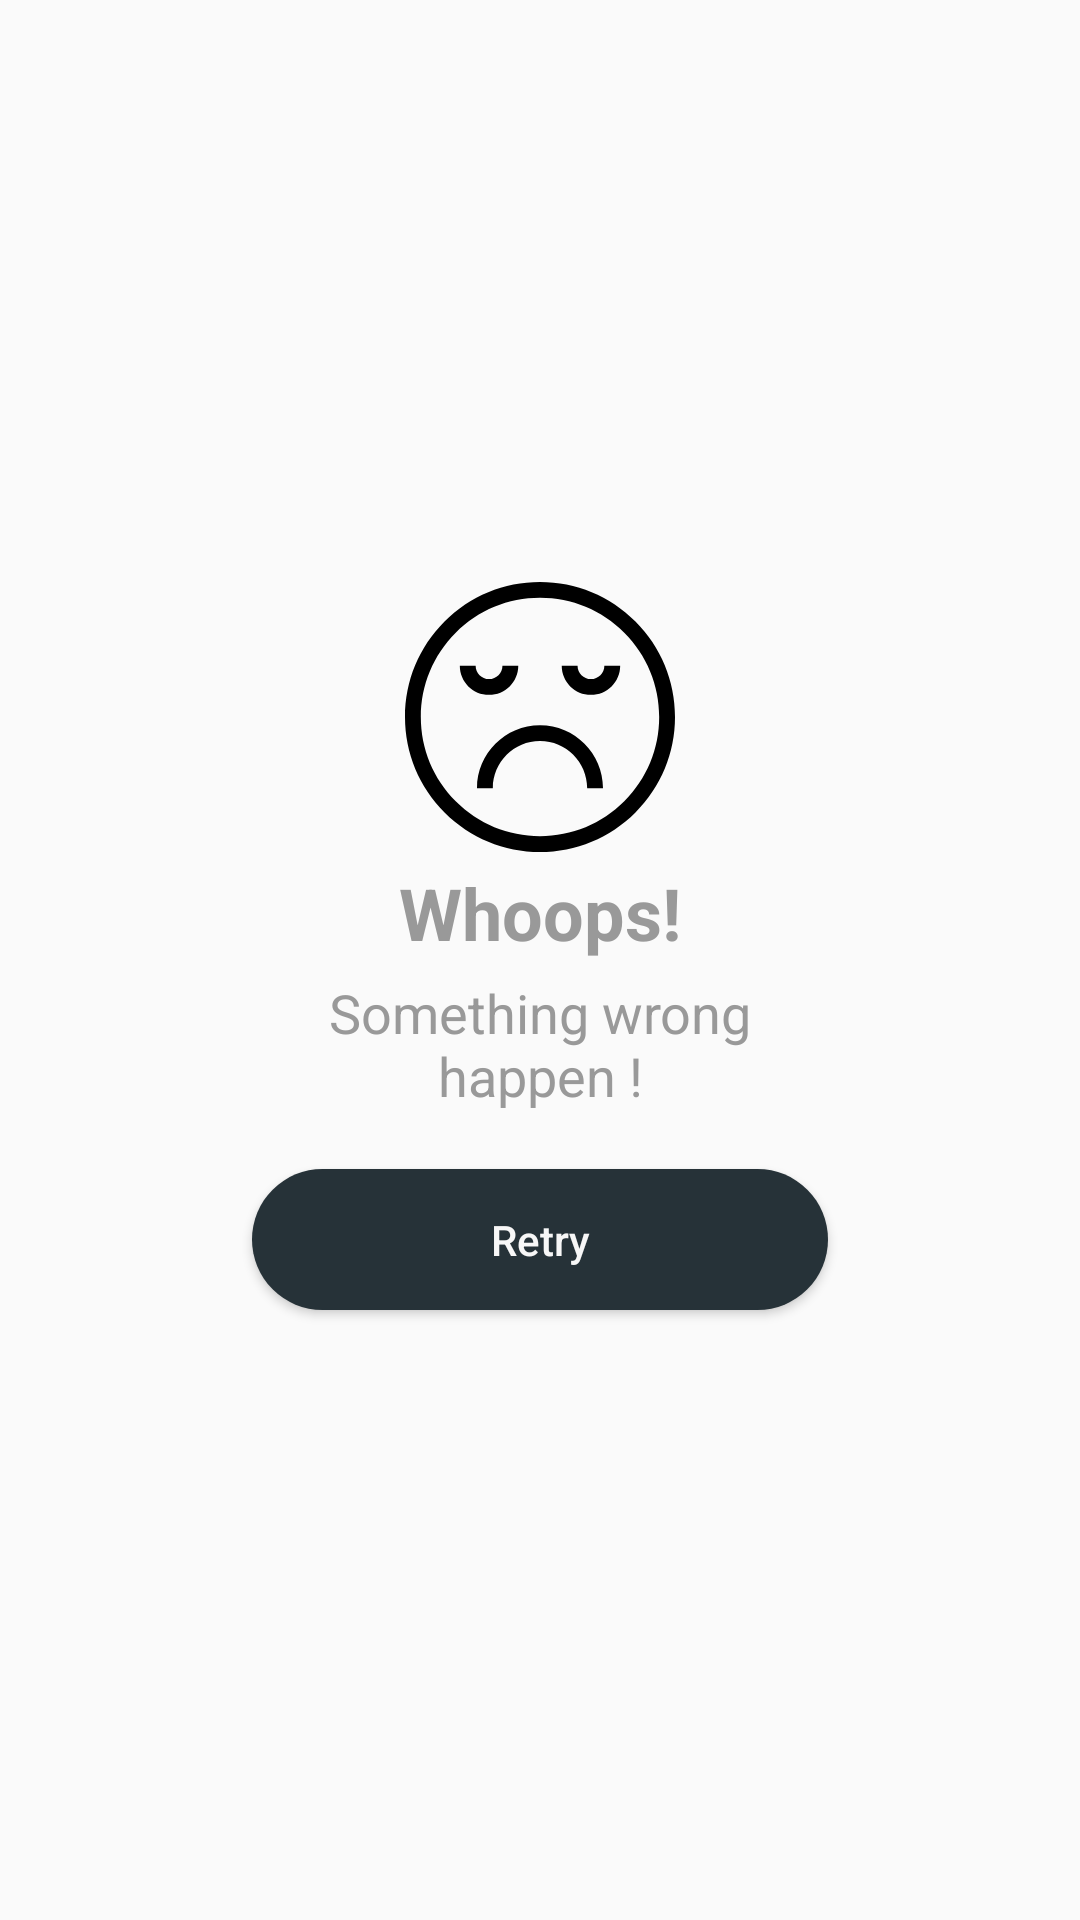

Locate icon controls on the screen. Image size 1080 × 1920, boxes as (x1, y1, x2, y2).
sad: (405, 582, 675, 852)
